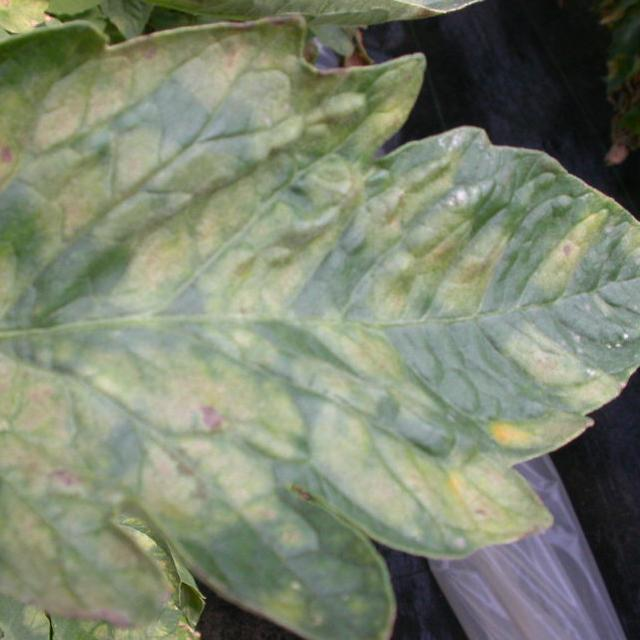Tomato mold leaf: (0, 2, 640, 640)
